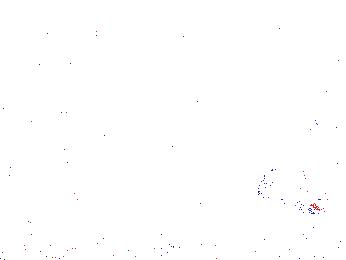flame jellyfish: (256, 164, 325, 218), (148, 166, 209, 220), (285, 61, 328, 133)
